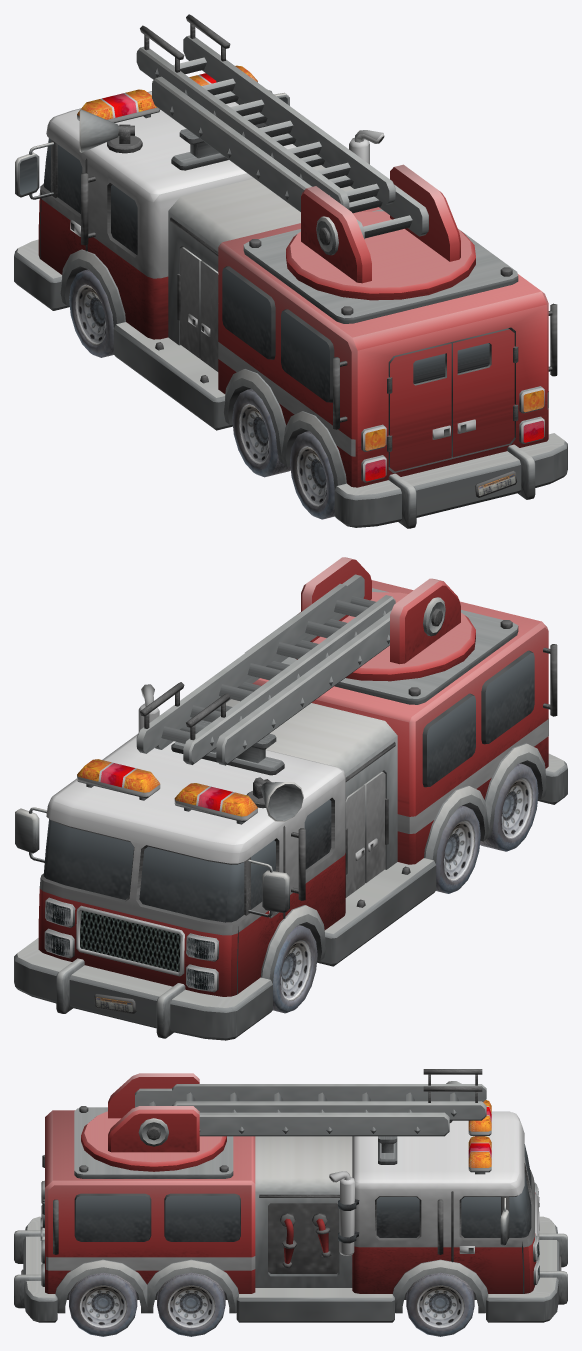
Rendered from VHC0110022.FBX.
The picture shows the model from 3 angles, top to bottom: view 1: azimuth 30°, elevation 25°; view 2: azimuth 150°, elevation 25°; view 3: azimuth 270°, elevation 25°; orthographic projection. The views are drawn at different scales.
Visible parts, largest first — view 1: smVHC0110022; view 2: smVHC0110022; view 3: smVHC0110022.
Part boxes in pixels (left/top/right/bottom): smVHC0110022: left=14, top=14, right=567, bottom=528; smVHC0110022: left=14, top=557, right=567, bottom=1040; smVHC0110022: left=14, top=1069, right=567, bottom=1336.
Bounding box in the file's own units: 384 × 390 × 883.
Materials: 1 (1 with a texture image).
